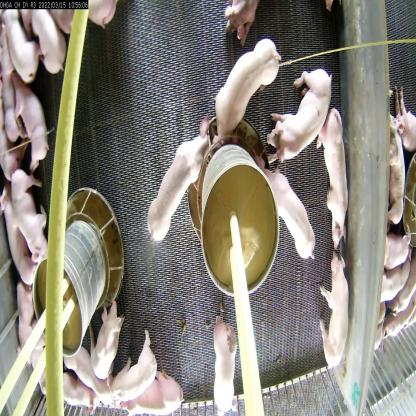Pig: (251, 146, 317, 266), (209, 36, 278, 142), (266, 68, 334, 169), (146, 131, 207, 241), (313, 100, 351, 246), (4, 72, 52, 173), (1, 166, 49, 263), (96, 330, 158, 405), (318, 254, 353, 376), (83, 301, 125, 386), (0, 184, 34, 287), (114, 373, 184, 415), (6, 281, 40, 365), (212, 306, 236, 416)
